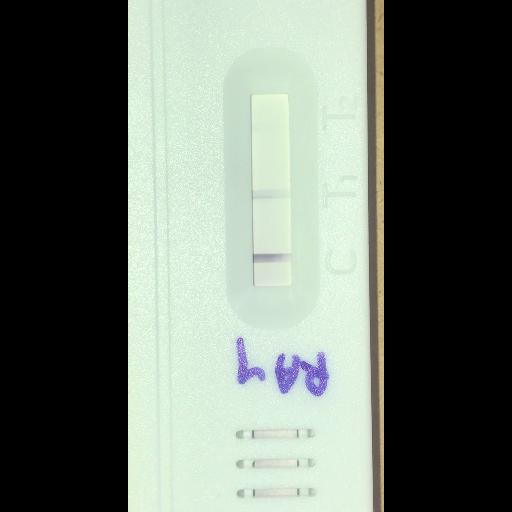Pos: (127, 0, 377, 511)
